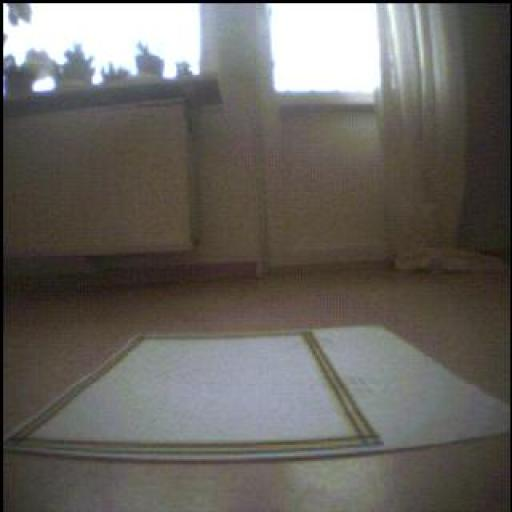Pad: (6, 327, 511, 462)
